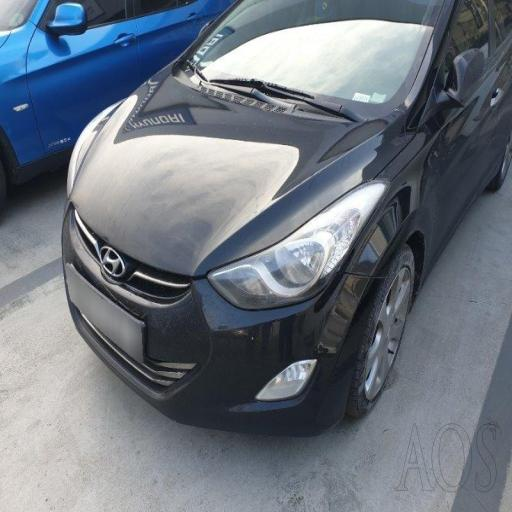dent: (105, 108, 332, 276)
